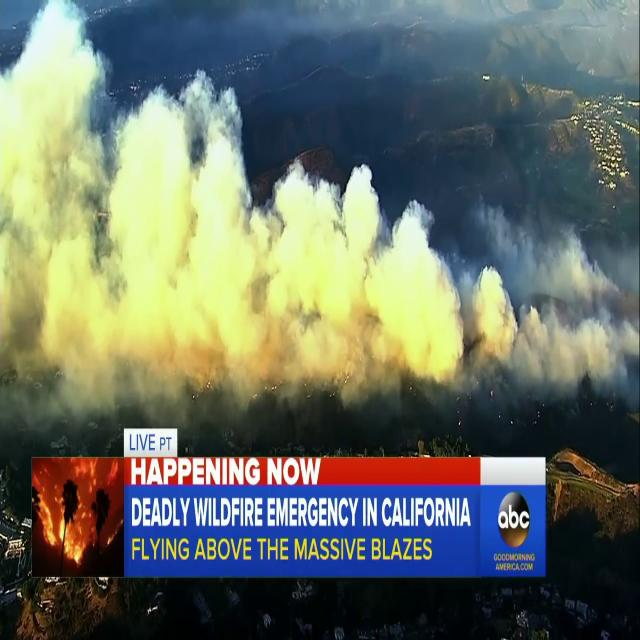smoke: (0, 2, 639, 422), (135, 69, 403, 416), (401, 193, 640, 413), (0, 0, 127, 308)
